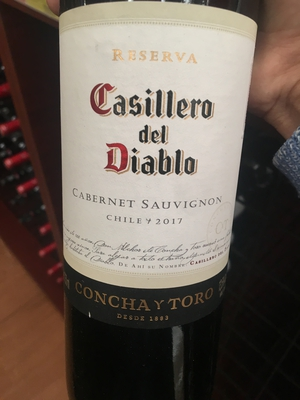casillero del diablo cabernet sauvignon: (50, 4, 261, 400)
